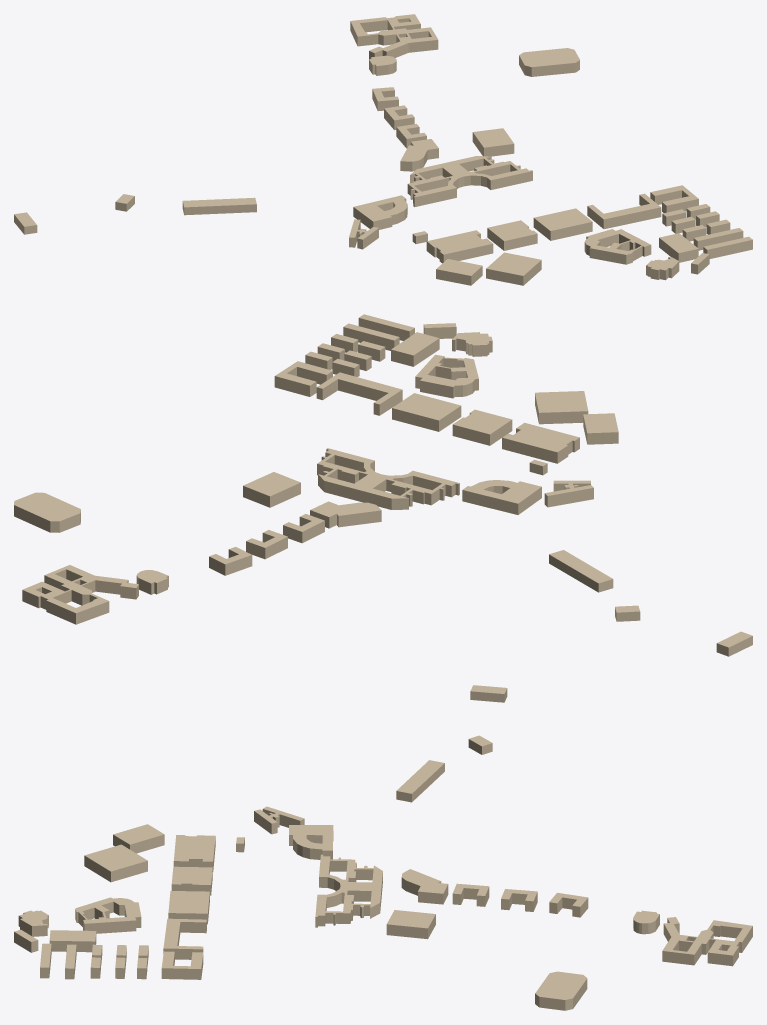
The model's file is -20_12-estimated-coarse.glb.
3 renders of one model, top to bottom at view 1: azimuth 30°, elevation 25°; view 2: azimuth 150°, elevation 25°; view 3: azimuth 270°, elevation 25°, orthographic. The views are drawn at different scales.
Bounding box in the file's own units: 948 × 15 × 933.
